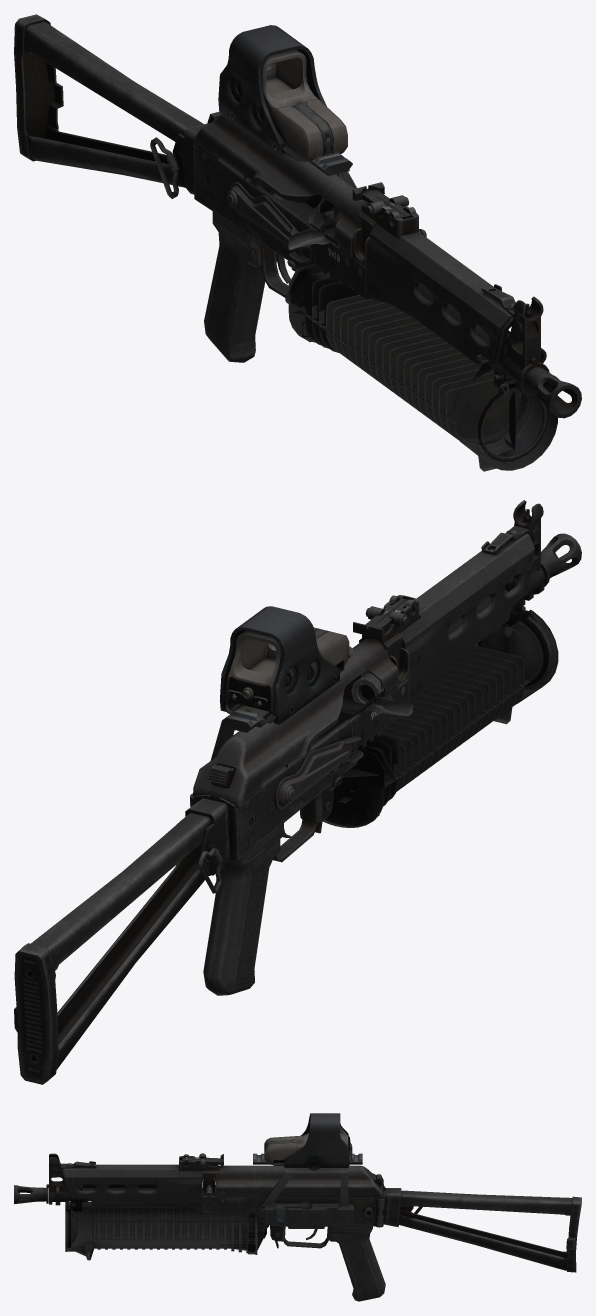
The model's file is pp-19_bizon.fbx.
3 renders of one model, top to bottom at view 1: azimuth 30°, elevation 25°; view 2: azimuth 150°, elevation 25°; view 3: azimuth 270°, elevation 25°, orthographic. The views are drawn at different scales.
Parts seen in each view (by area): view 1: Body_mat0.002_0, Mag_mat0_0, Holo_mat0.004_0, Reciever_mat0.001_0, Rail_mat0.003_0; view 2: Body_mat0.002_0, Mag_mat0_0, Holo_mat0.004_0, Rail_mat0.003_0, Reciever_mat0.001_0; view 3: Body_mat0.002_0, Mag_mat0_0, Holo_mat0.004_0, Rail_mat0.003_0.
Part boxes in pixels (x1,y1,x2,y2): Body_mat0.002_0: (14,14,581,418); Mag_mat0_0: (285,257,557,471); Holo_mat0.004_0: (218,25,347,162); Reciever_mat0.001_0: (288,197,353,254); Rail_mat0.003_0: (309,152,356,188); Body_mat0.002_0: (14,500,581,1084); Mag_mat0_0: (323,599,558,827); Holo_mat0.004_0: (220,606,349,724); Rail_mat0.003_0: (210,646,354,760); Reciever_mat0.001_0: (340,640,412,716); Body_mat0.002_0: (14,1153,581,1301); Mag_mat0_0: (65,1201,269,1260); Holo_mat0.004_0: (264,1113,352,1170); Rail_mat0.003_0: (253,1153,362,1228).
Bounding box in the file's own units: 0.0819 × 0.2344 × 0.66.
5 materials, 5 textured.
